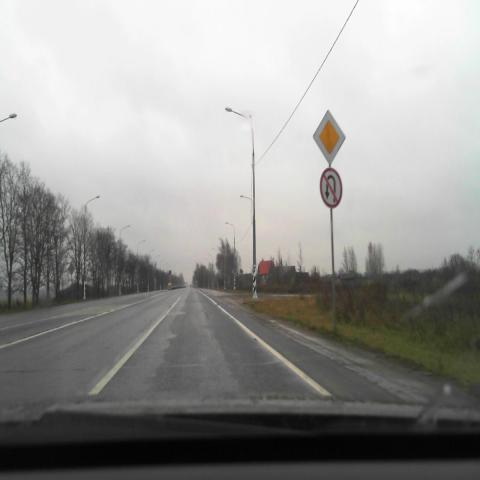3_19: (320, 168, 342, 208)
